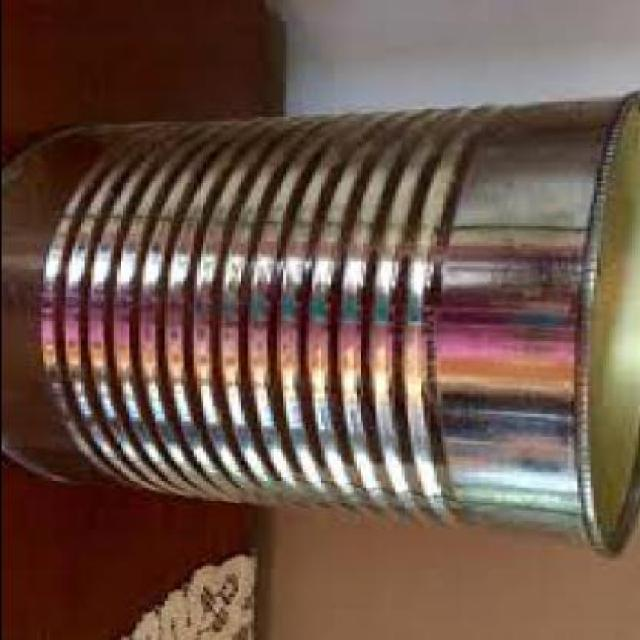METAL: (3, 91, 639, 557)
